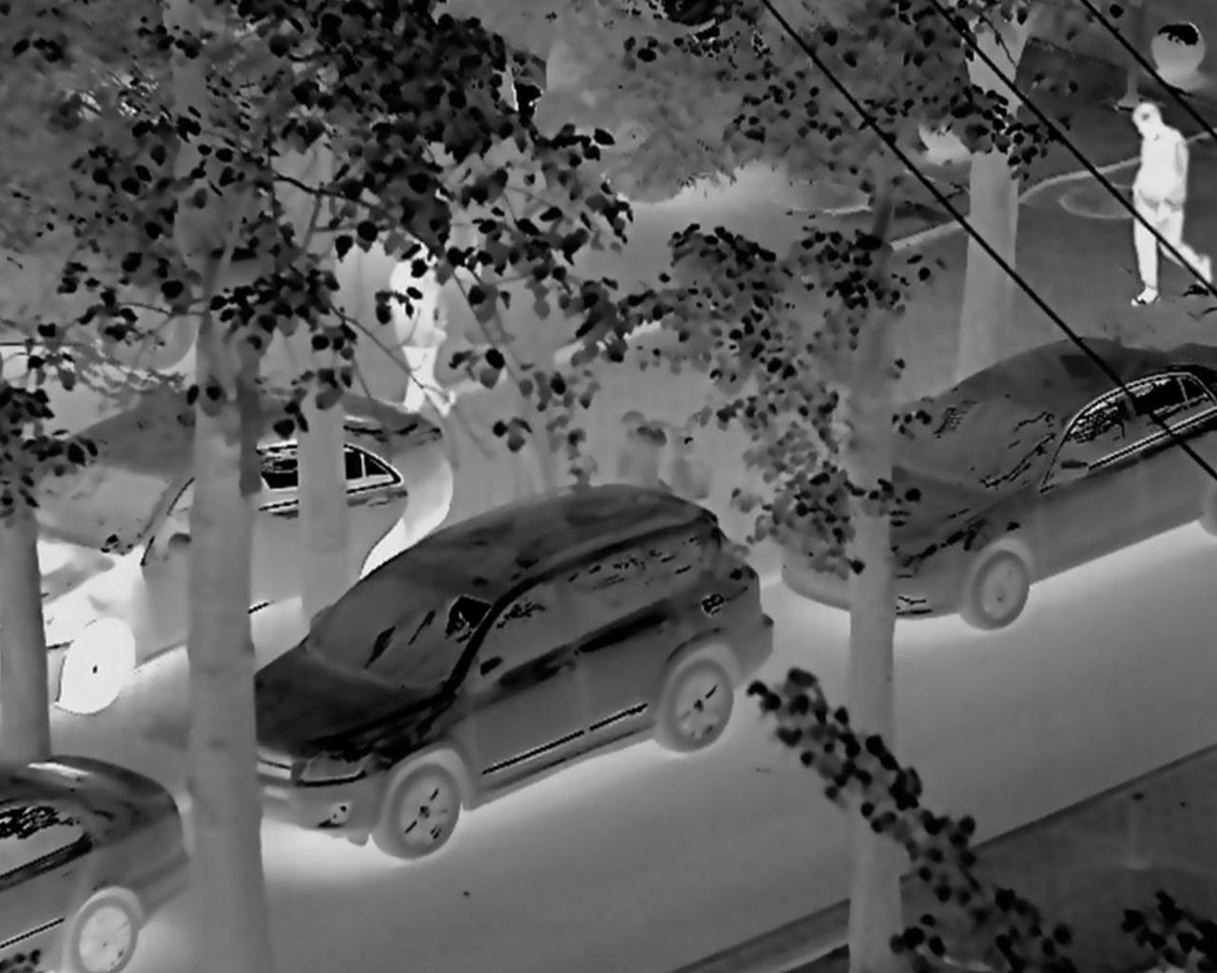person: (1115, 96, 1214, 319), (375, 227, 457, 447)
